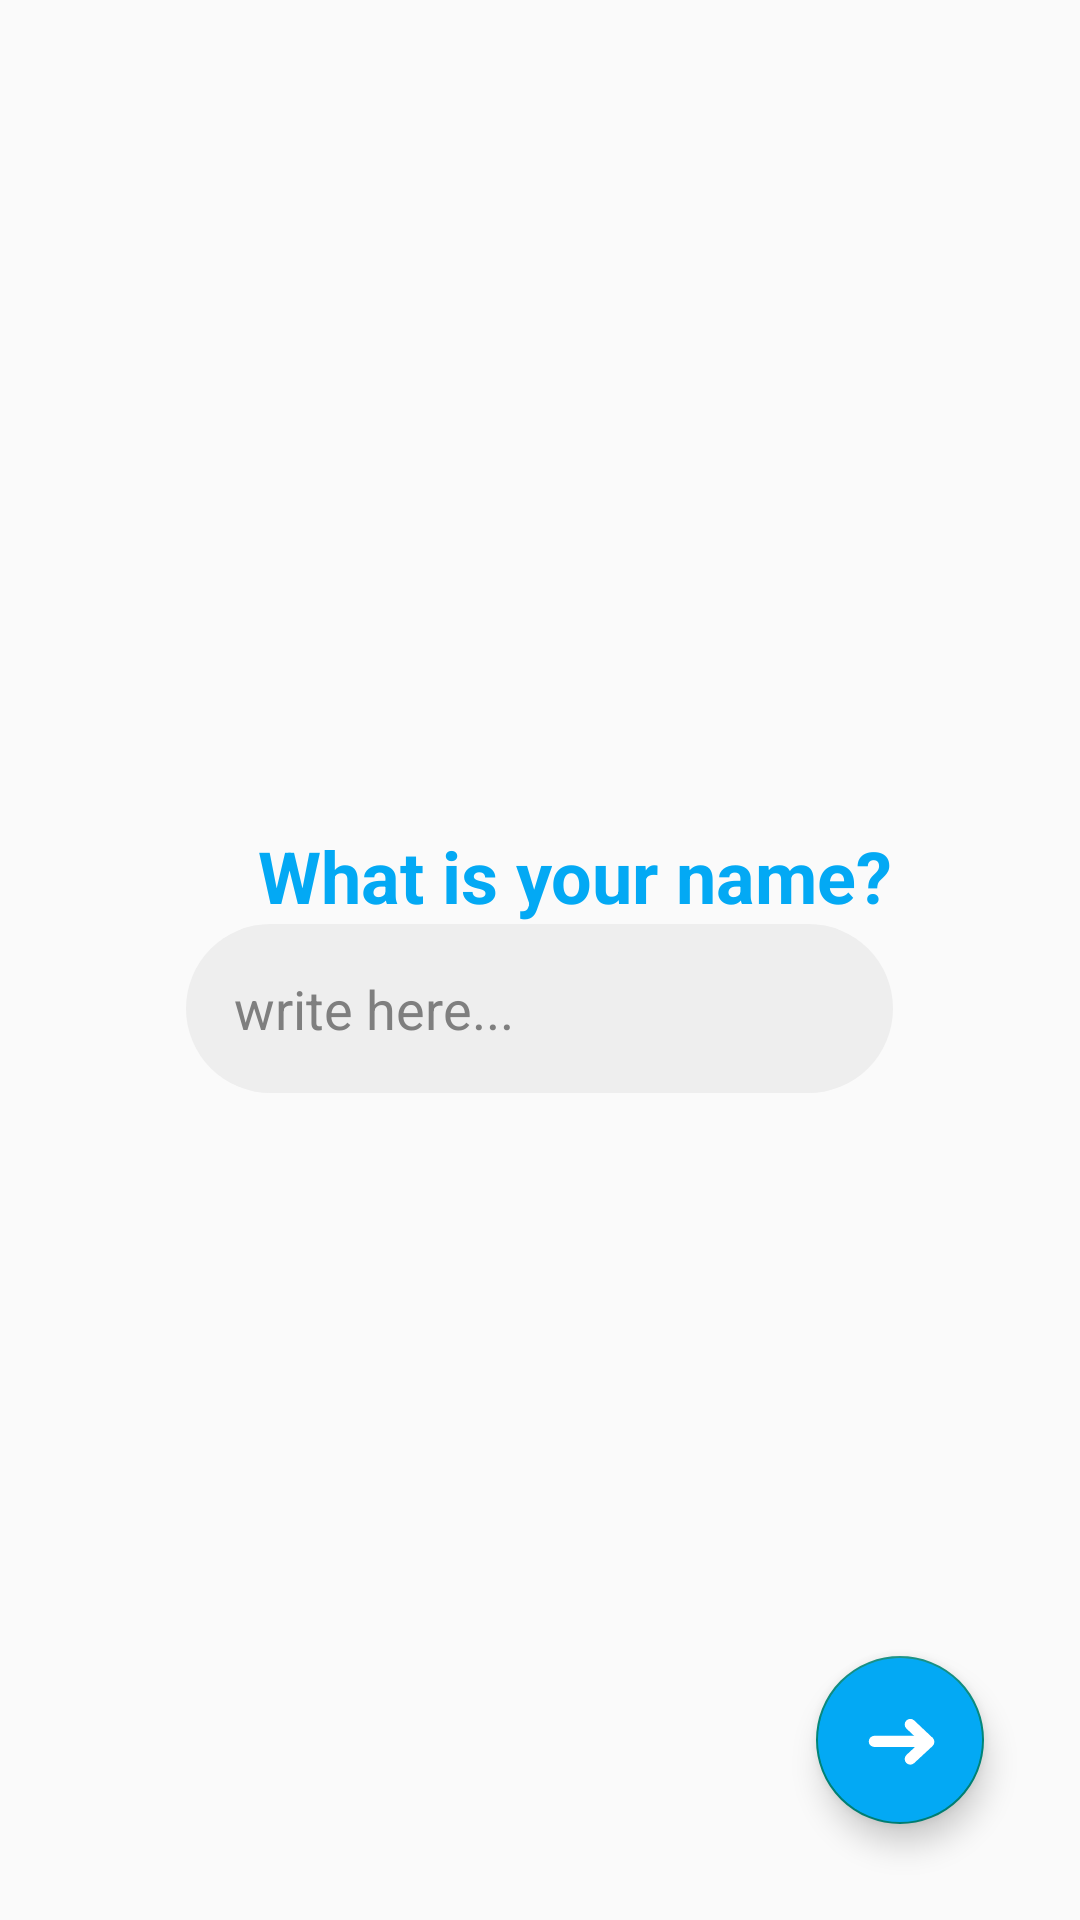

Where icons sit on this 1080*1920 app screen, as bbox(x1, y1, x2, y2):
right arrow: bbox(816, 1656, 984, 1824)
